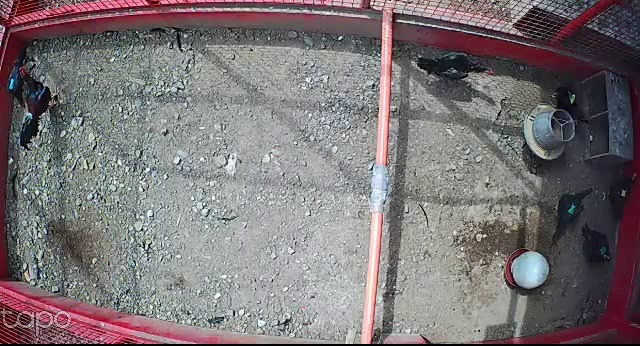Chicken: (413, 49, 496, 86), (549, 185, 595, 251), (600, 171, 639, 226), (546, 84, 589, 125), (577, 221, 614, 263), (4, 55, 28, 114)
Drinker: (505, 248, 550, 289)
Feeder: (524, 100, 576, 161)
Rooster: (17, 61, 60, 150)
Saddle_Color_Blue: (9, 78, 15, 88)
Saddle_Color_Yellow: (618, 189, 627, 197)
